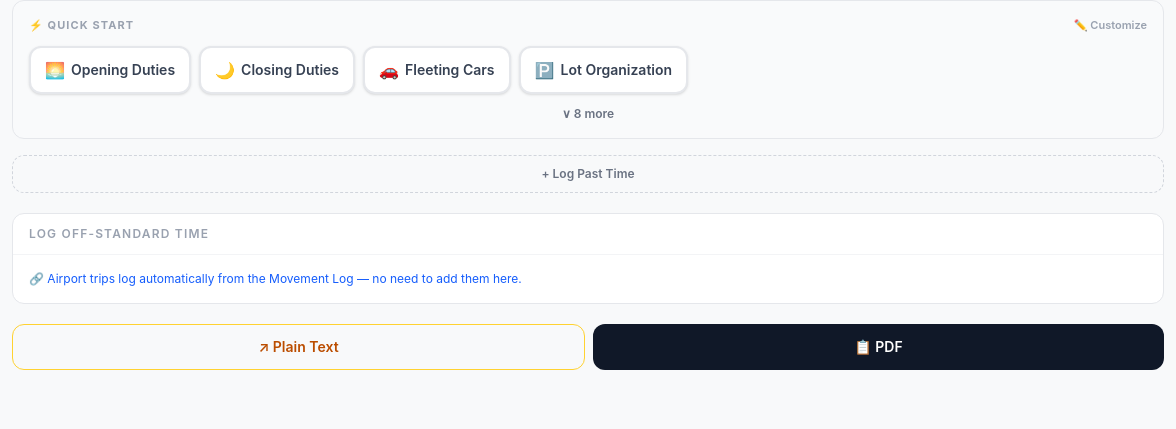
Test: OffStandardTimeLog Component › starts a timer online and saves it to supabase
This screenshot has width=1176, height=429.
Click the text "Opening Duties" at (123, 70), box [71,60,175,80]
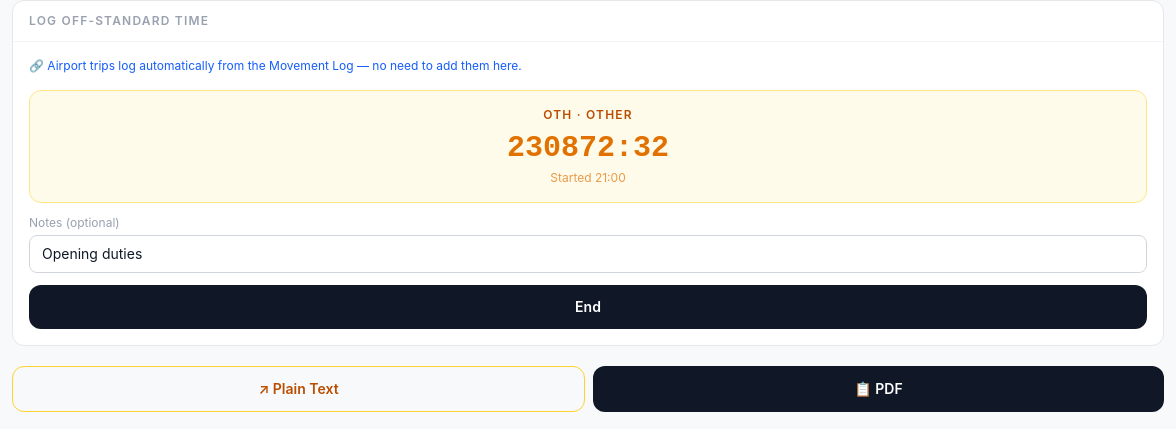
Expected: the button "End" is shown, [29,285,1147,329]
